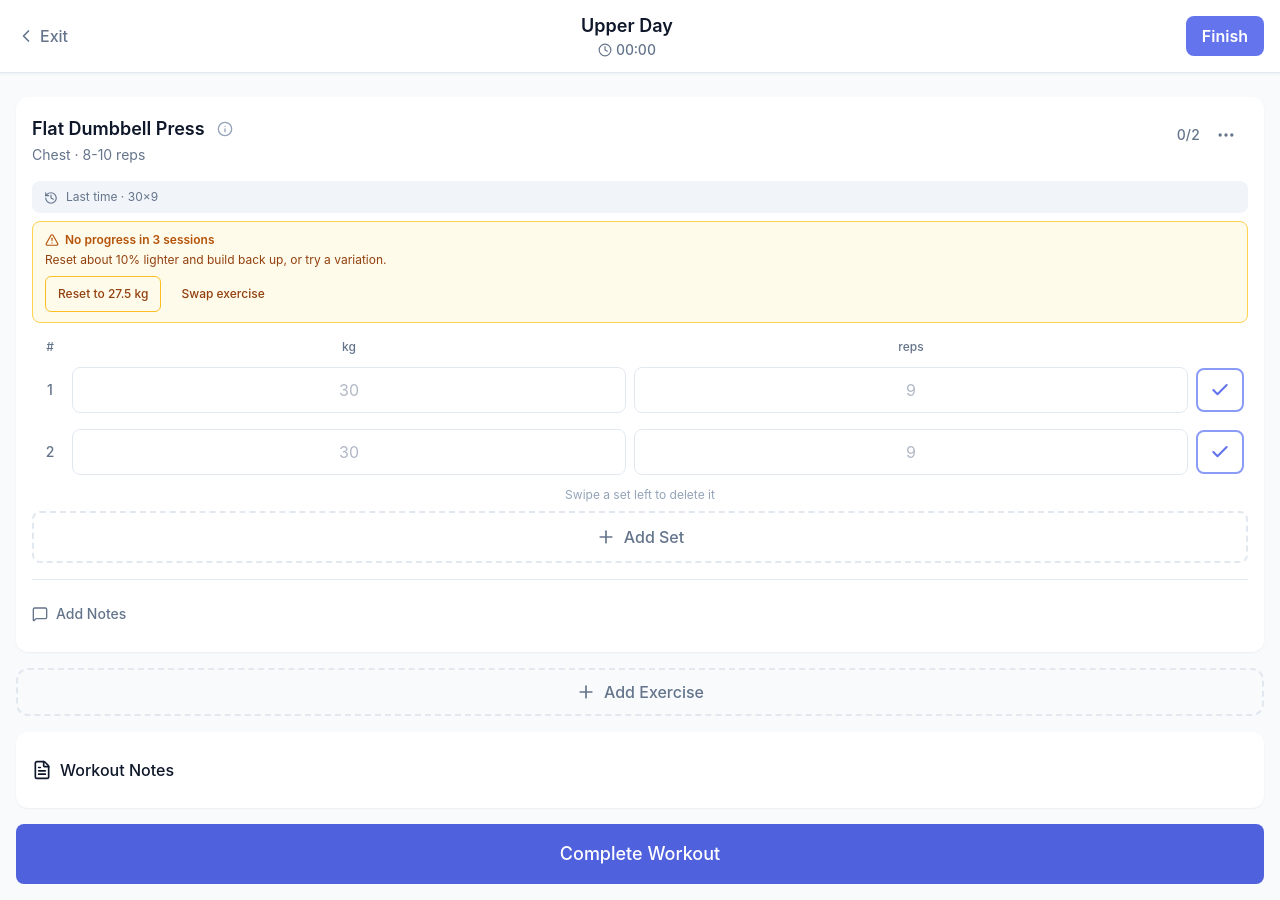
it: ActiveWorkoutPage suggestions › flags a stalled exercise and offers a lighter reset
Expected: the text "No progress in 3 sessions" is shown, [45,232,214,247]
Click the button "Reset to 27.5 kg": click(103, 294) [45,276,161,312]
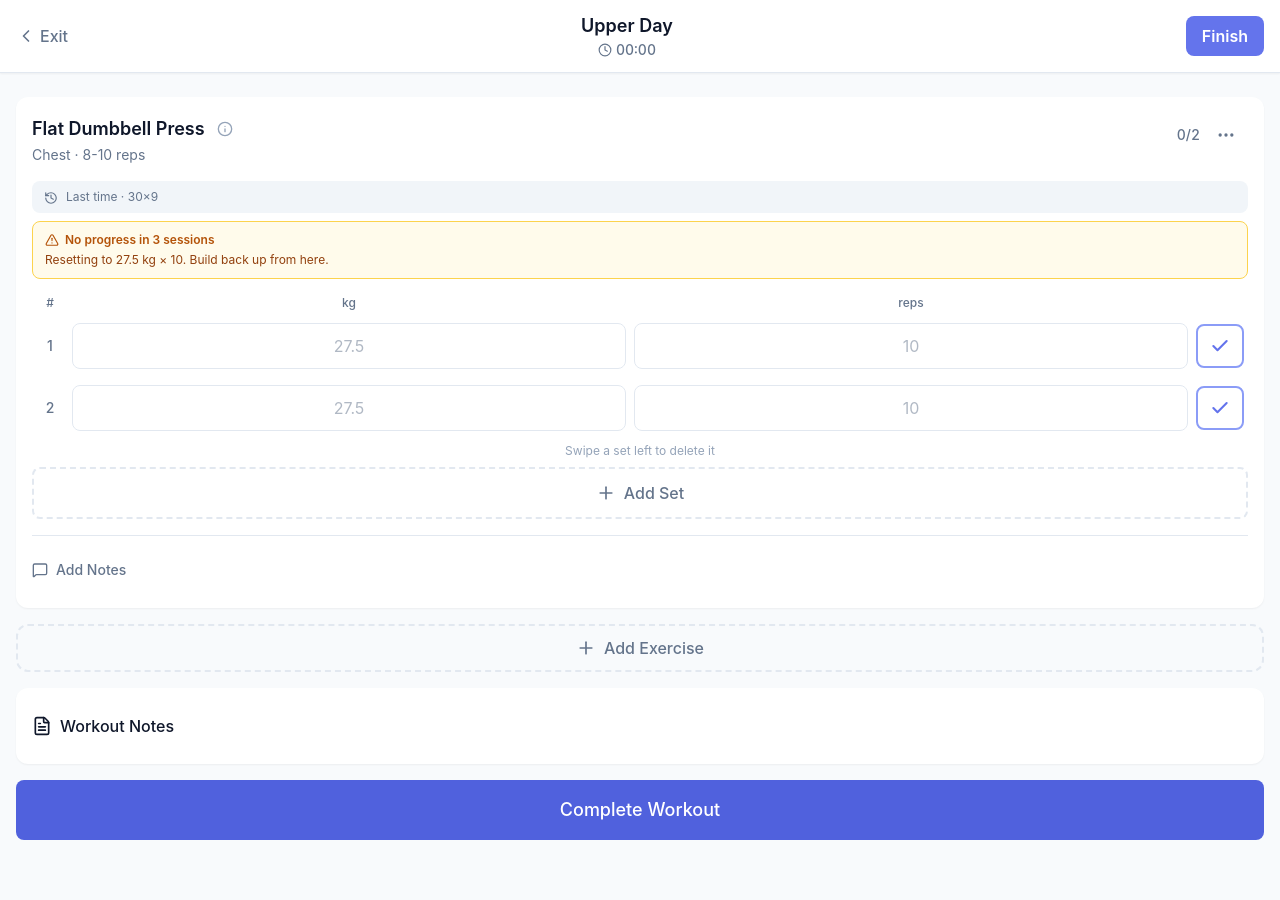
Now the text "Resetting to 27.5 kg × 10. Build back up from here." is shown, box [45,252,329,267]
